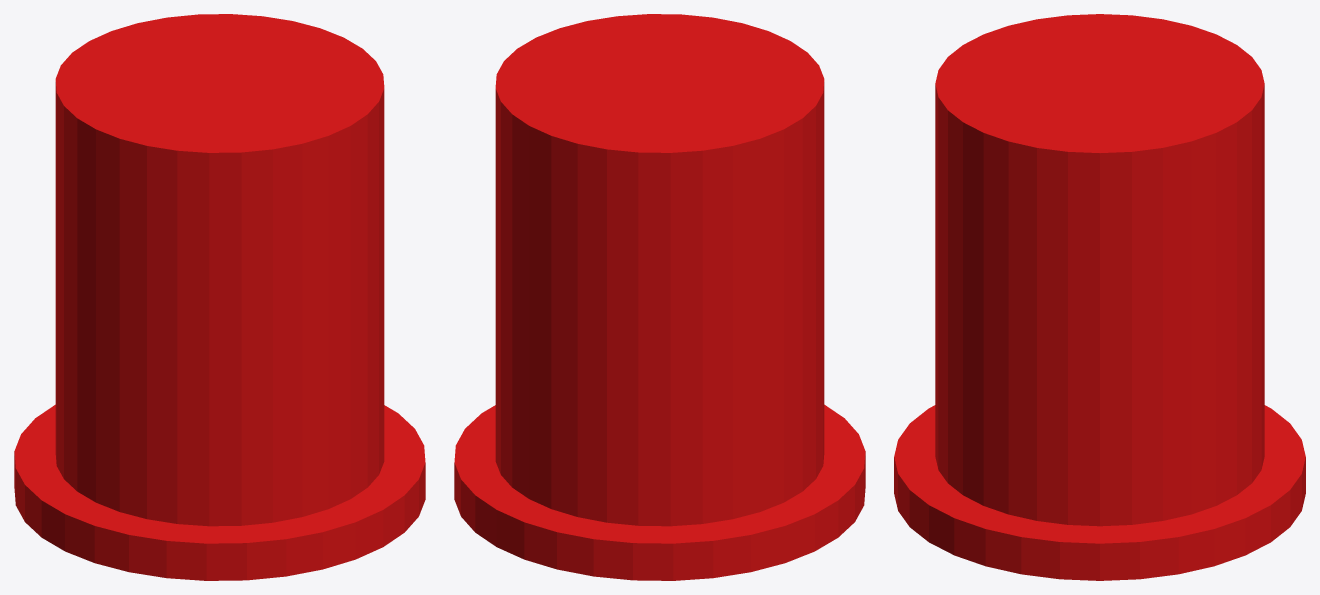
File: hat6.fbx
3 renders of one model, left to right at view 1: azimuth 30°, elevation 25°; view 2: azimuth 150°, elevation 25°; view 3: azimuth 270°, elevation 25°, orthographic.
Parts seen in each view (by area): view 1: Cylinder.001, Cylinder; view 2: Cylinder.001, Cylinder; view 3: Cylinder.001, Cylinder.
Boxes of the visible parts, box(x1,y1,x2,y2) form: Cylinder.001: box(55, 14, 384, 526); Cylinder: box(14, 404, 425, 580); Cylinder.001: box(495, 14, 824, 526); Cylinder: box(454, 404, 865, 580); Cylinder.001: box(935, 14, 1264, 526); Cylinder: box(894, 405, 1305, 580).
Bounding box in the file's own units: 200 × 220 × 200.
